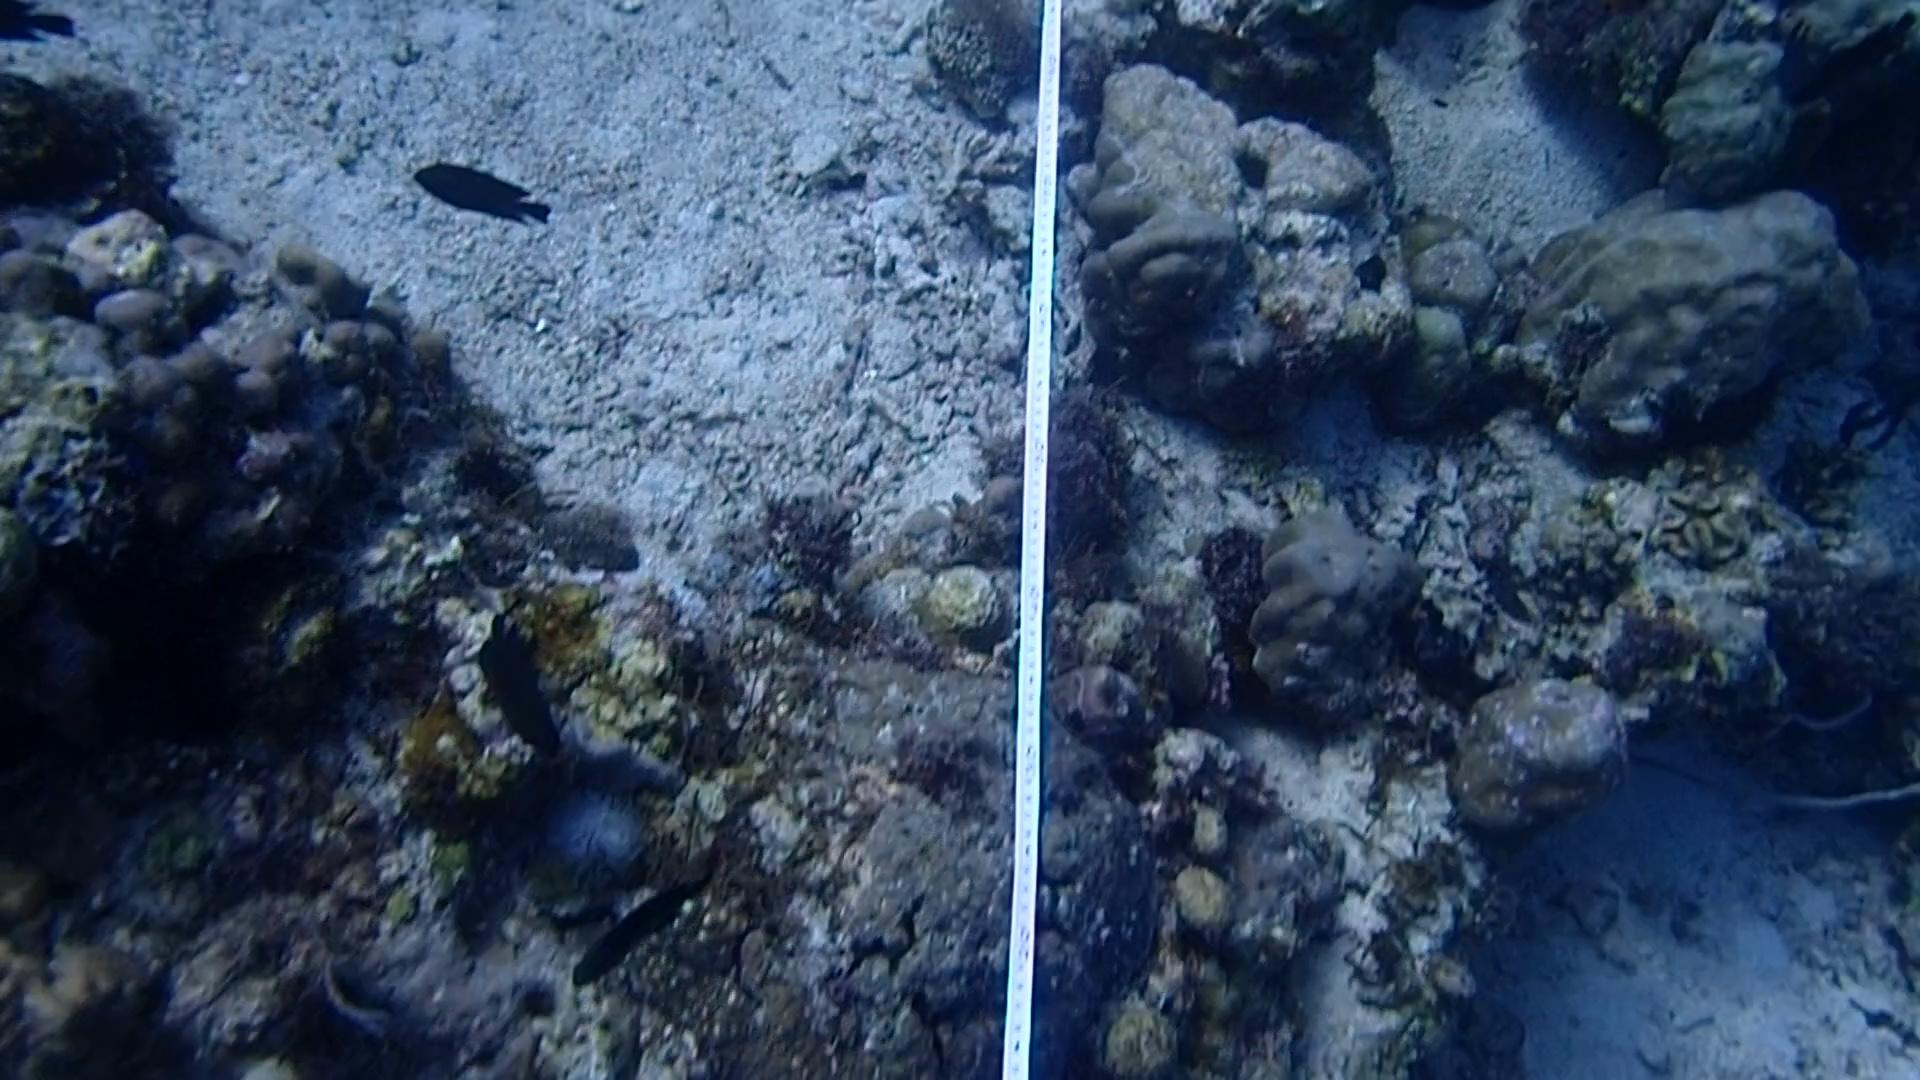Dark Fish: (556, 841, 731, 996), (460, 624, 576, 762), (398, 145, 563, 239), (0, 0, 88, 46)
